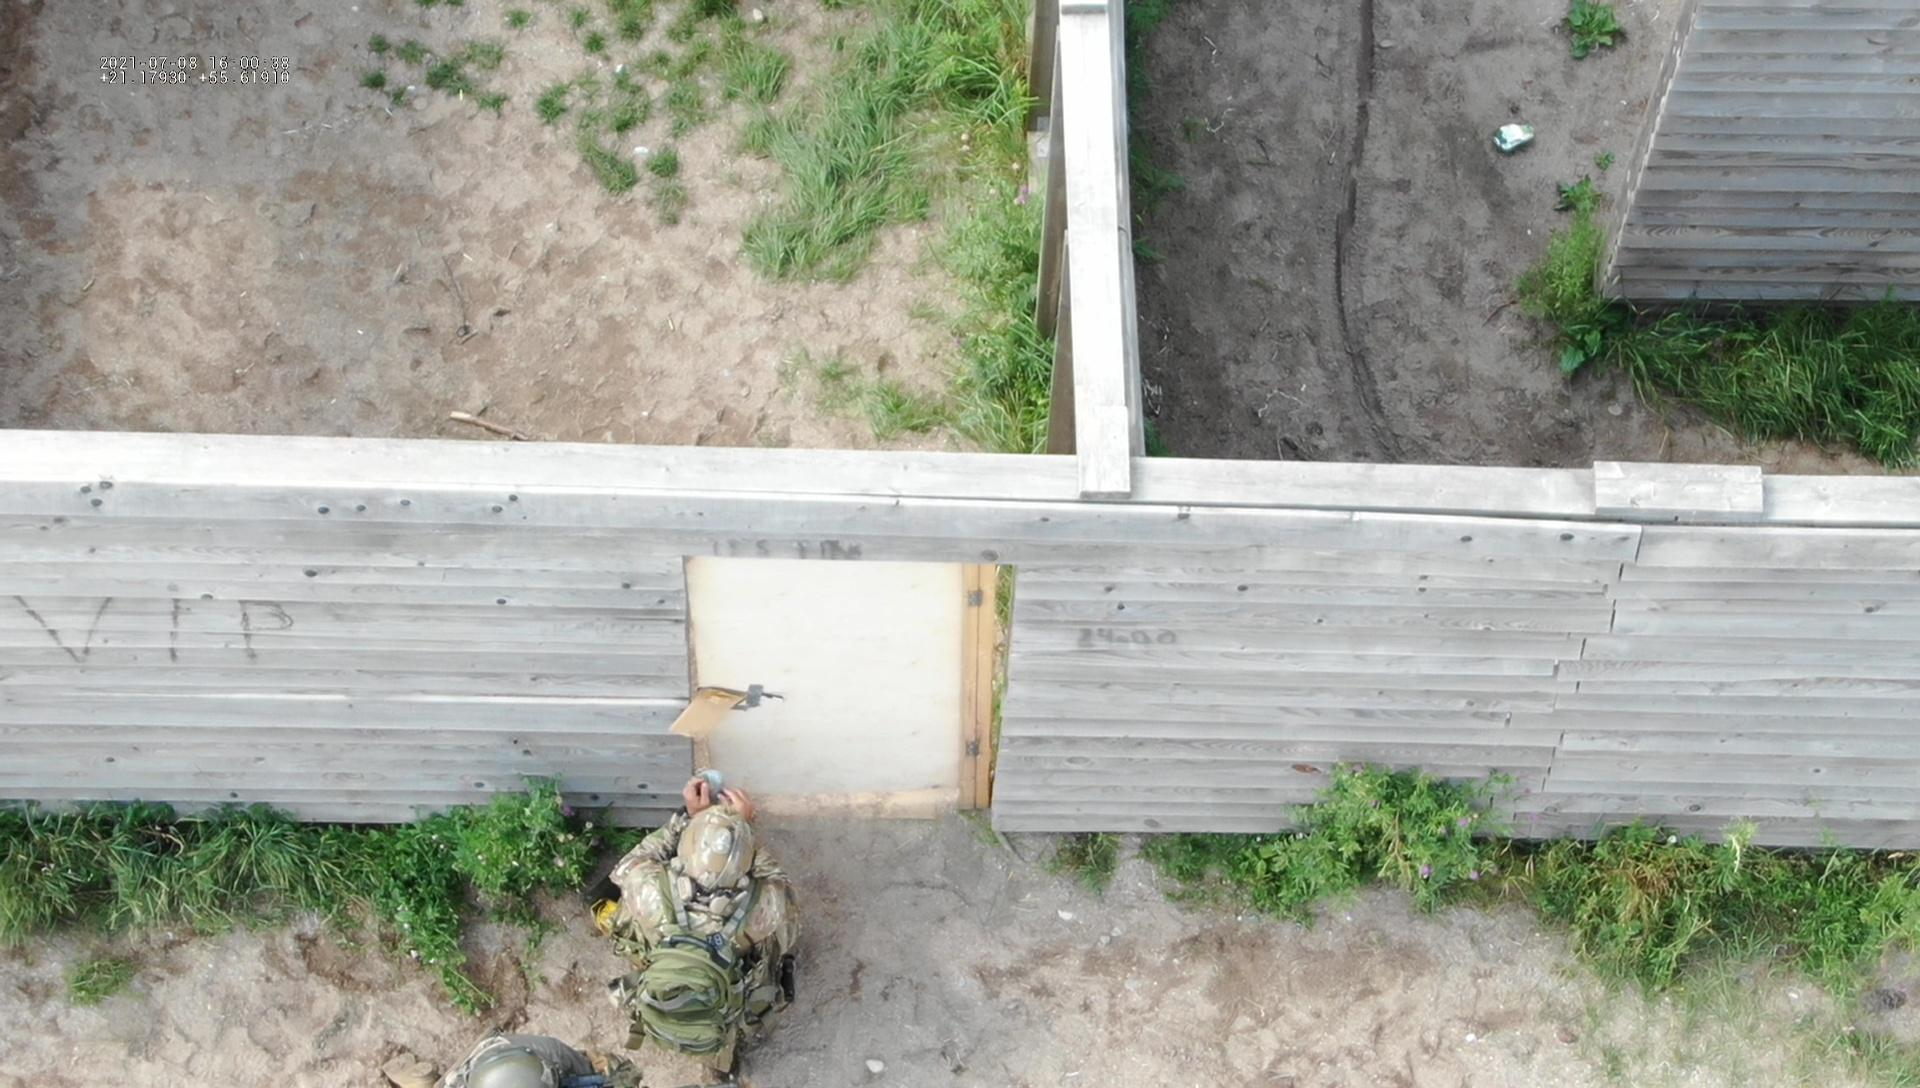Soldier: (632, 746, 819, 1085), (0, 1, 0, 1)
